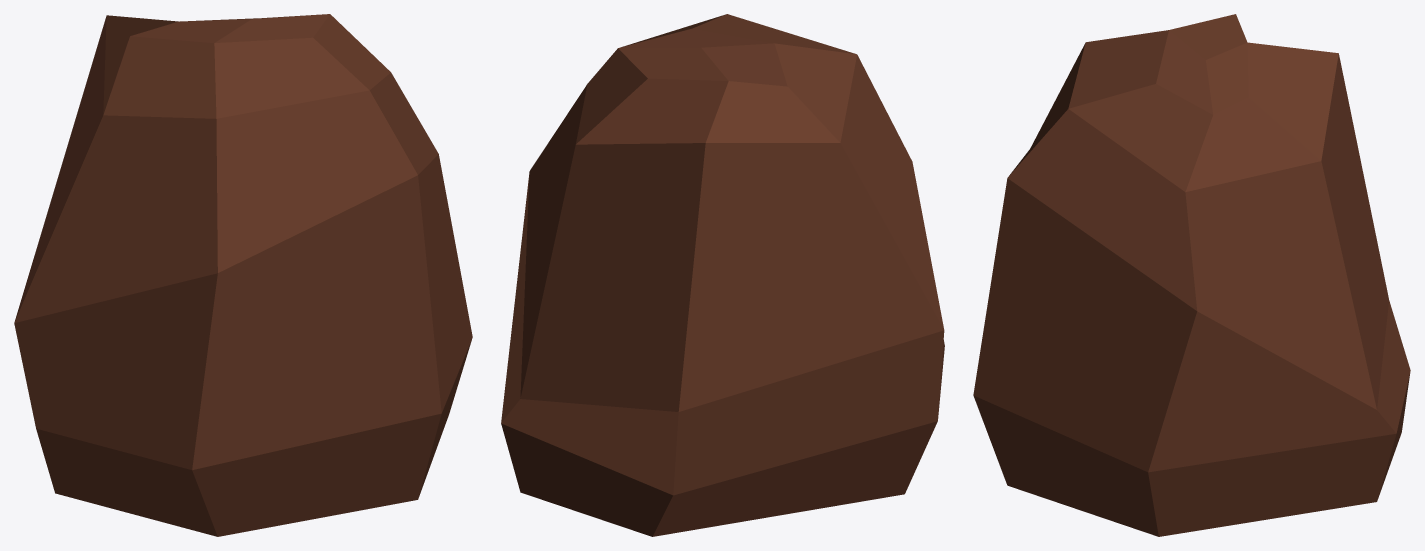
Rendered from RED_rock1.glb.
The picture shows the model from 3 angles, left to right: view 1: azimuth 30°, elevation 25°; view 2: azimuth 150°, elevation 25°; view 3: azimuth 270°, elevation 25°; orthographic projection. The views are drawn at different scales.
Visible parts, largest first — view 1: pSphere10; view 2: pSphere10; view 3: pSphere10.
Part boxes in pixels (x1,y1,x2,y2): pSphere10: (14, 14, 472, 536); pSphere10: (501, 14, 944, 536); pSphere10: (973, 14, 1410, 536).
Bounding box in the file's own units: 0.4929 × 0.4576 × 0.4524.
Materials: 1 (1 with a texture image).
